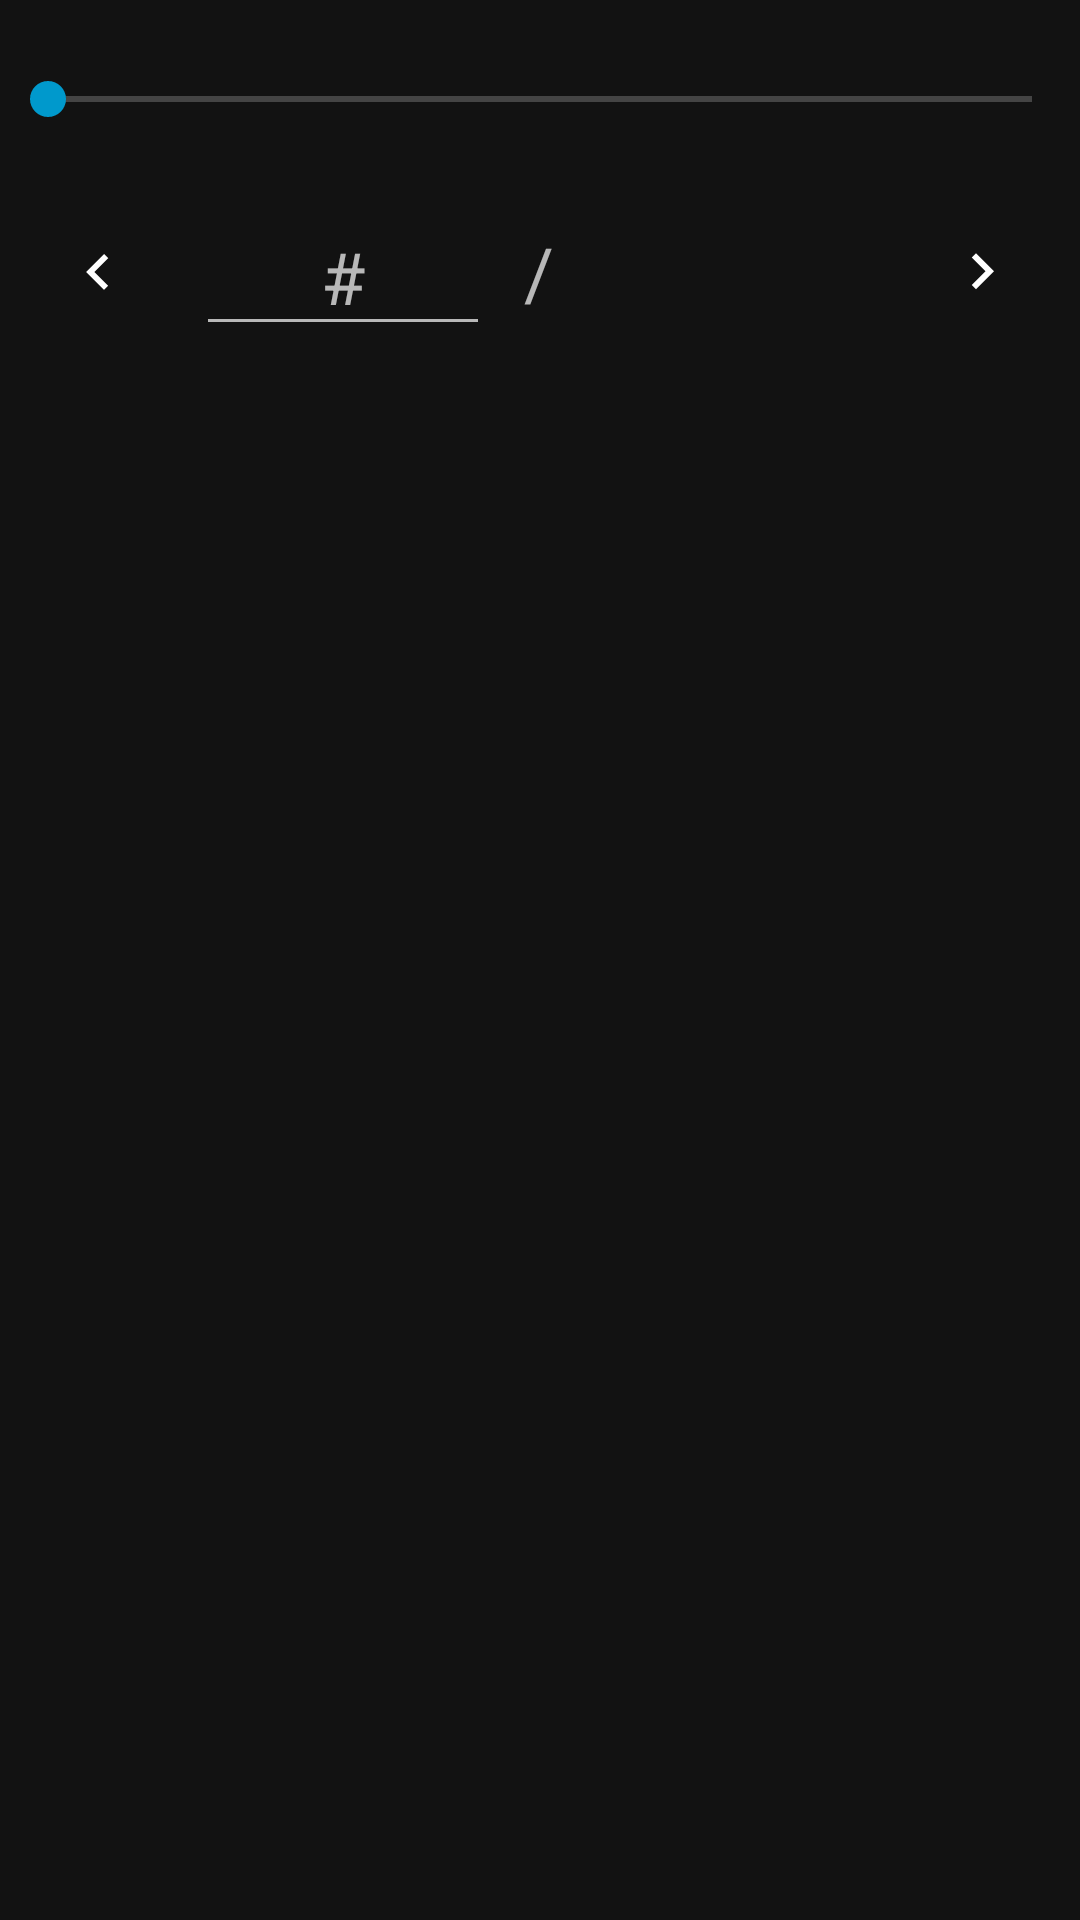

Named icons in this screenshot (1080×1920) and their centers, (x,y):
Next: (983,271)
Previous: (97,272)
